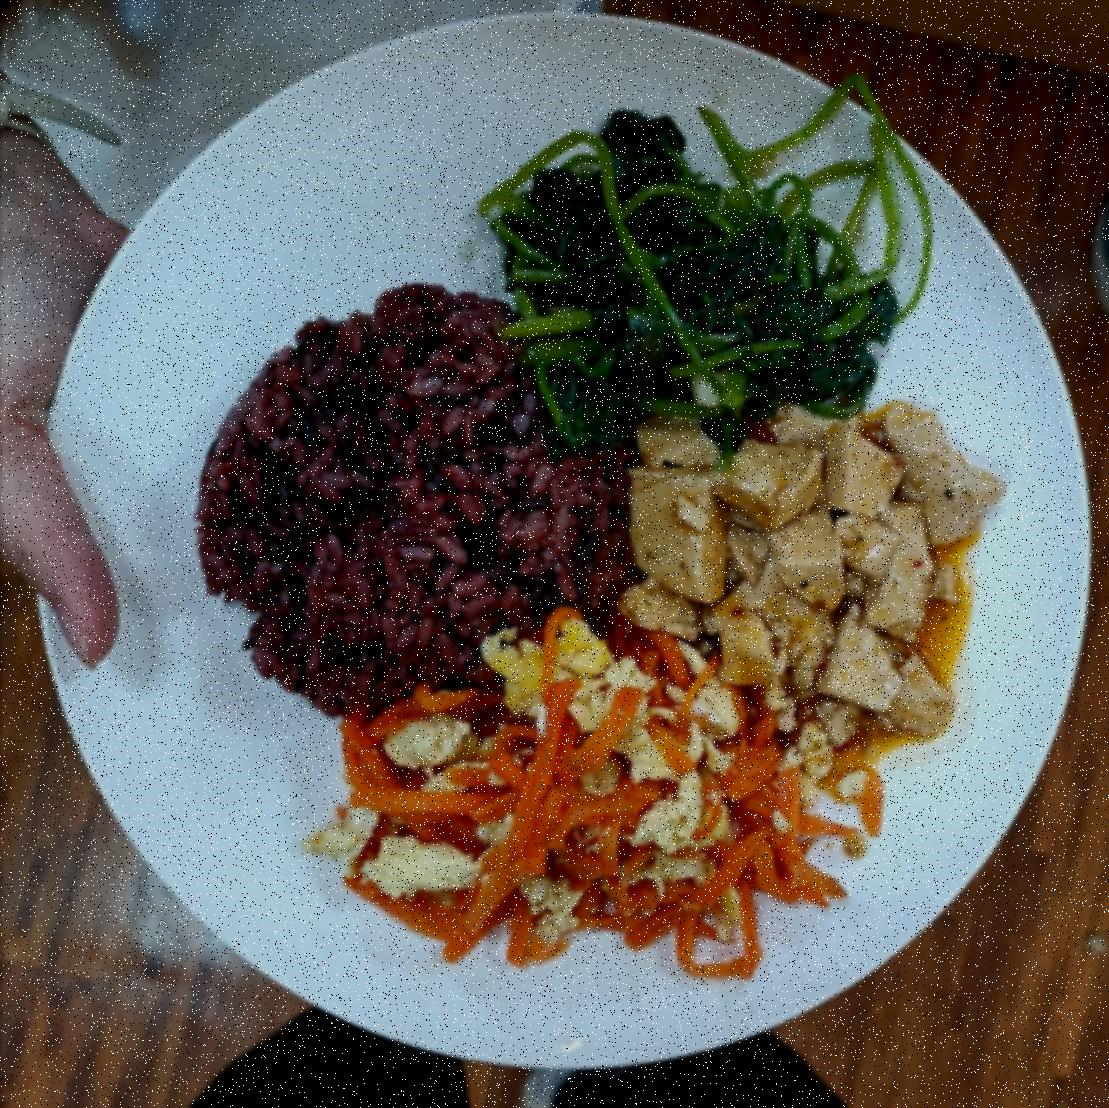plate: (18, 13, 1104, 1079)
purple rice: (190, 271, 639, 723)
side dish: (298, 643, 876, 959), (478, 108, 902, 426), (618, 398, 965, 743)
